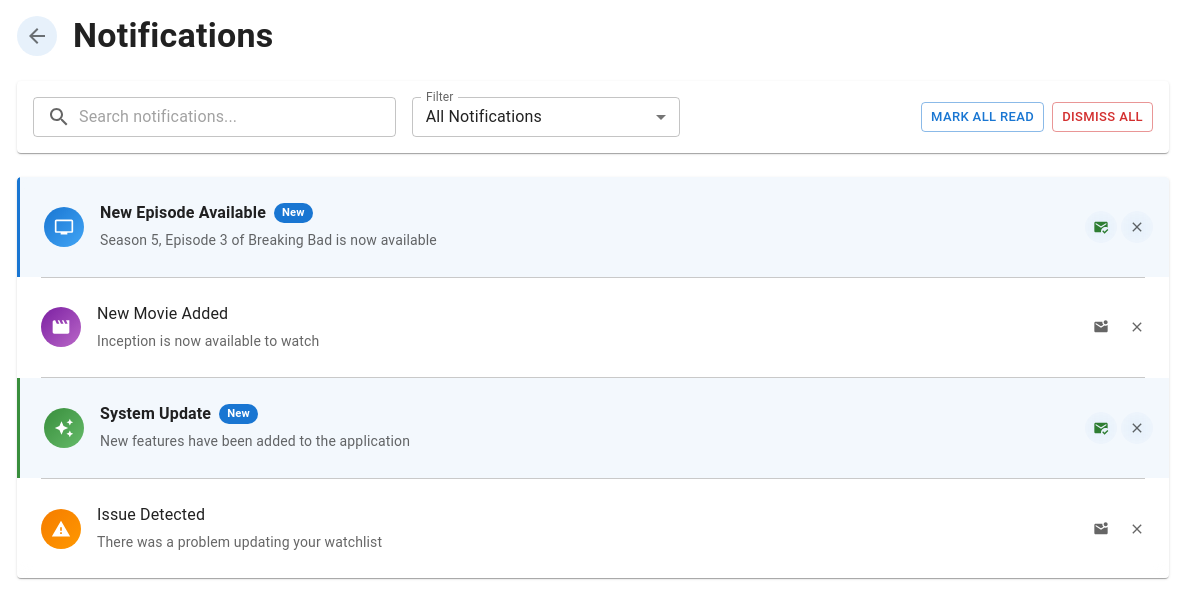
Test: Notifications › filtering › should filter notifications by unread status
Click the dropdown.
click(484, 117)  # box [426, 108, 542, 126]
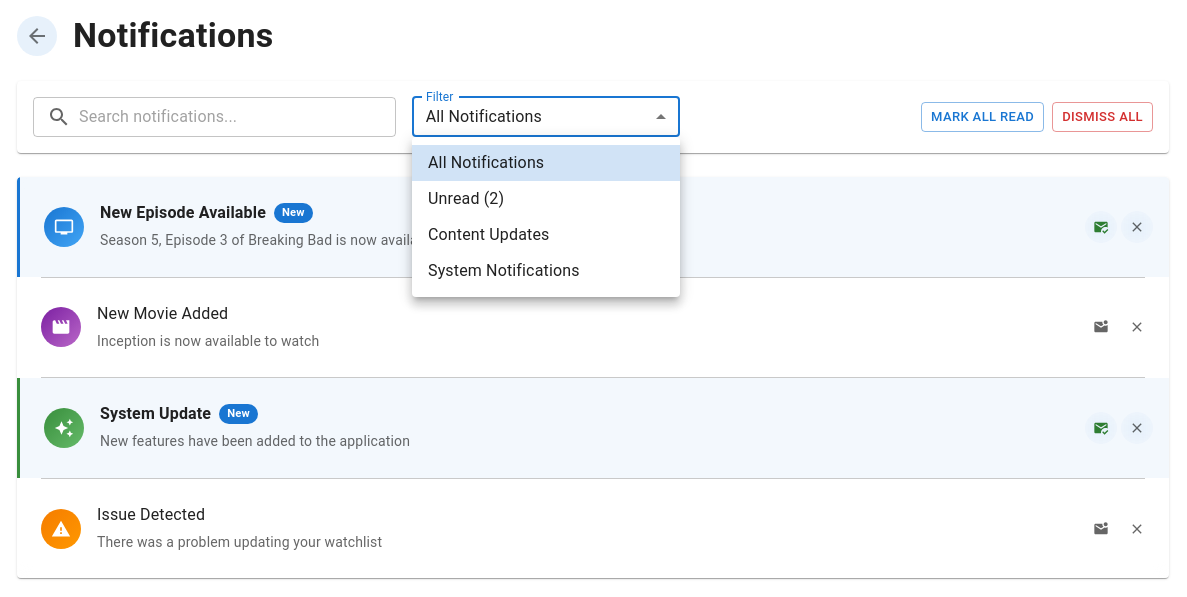
Click the option "Unread (2)".
click(466, 198)  # box [428, 189, 504, 208]
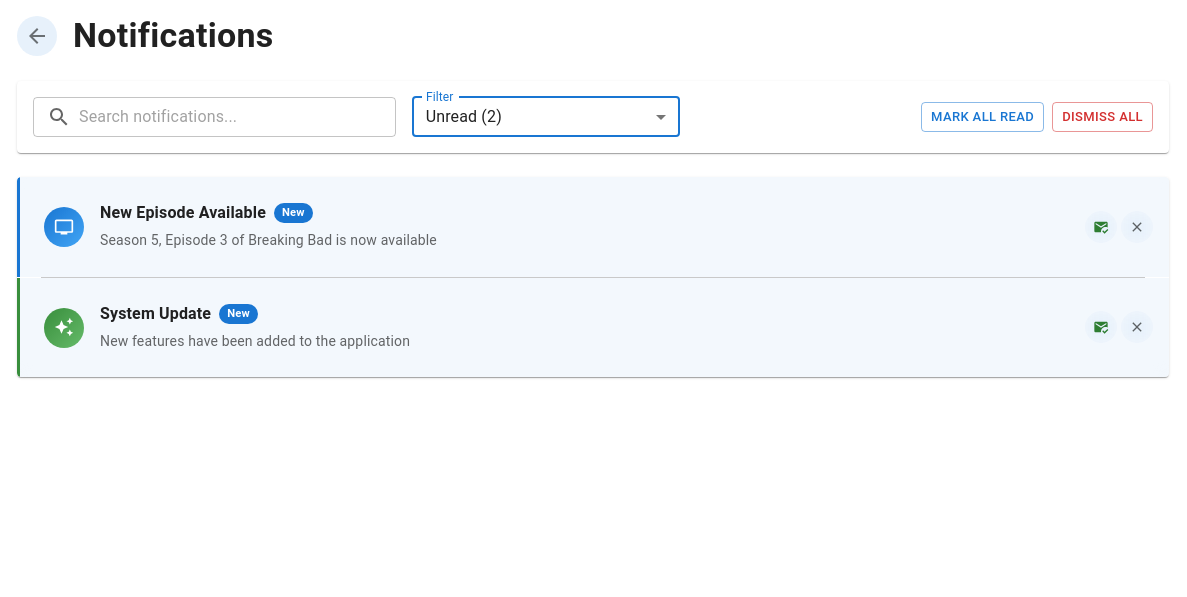
Expected: the heading "New Movie Added" is gone
